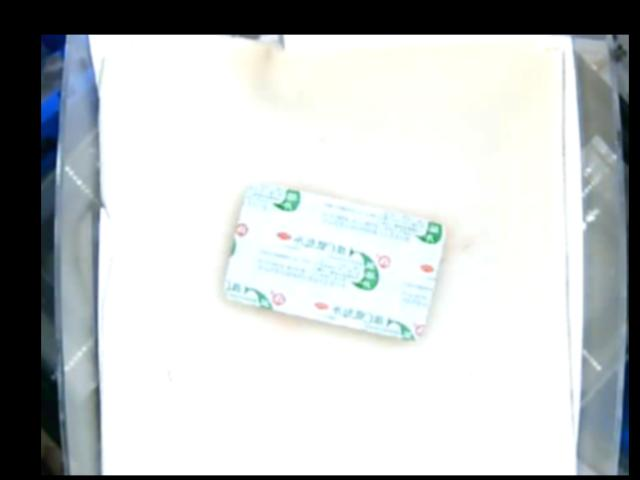Medicine: (222, 181, 444, 343)
